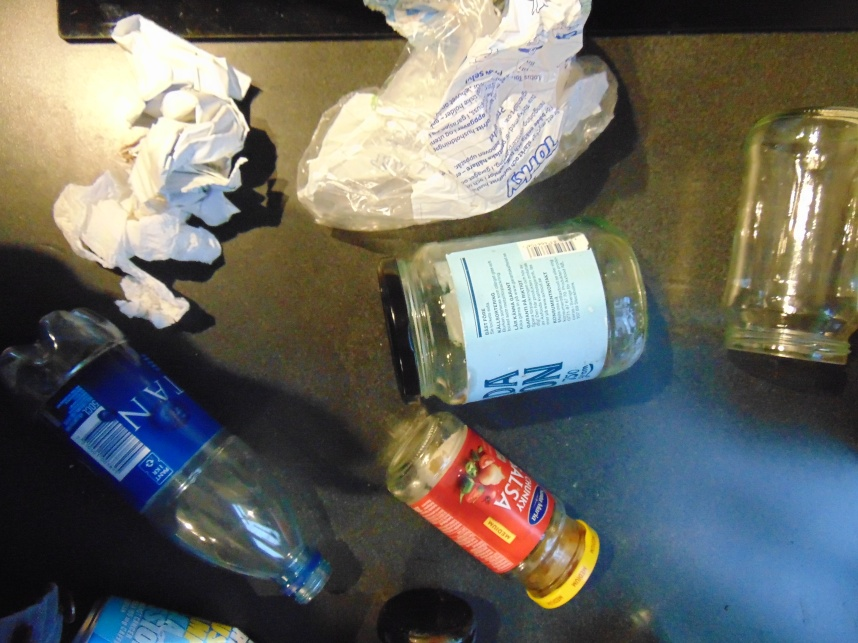glass_bottle: (379, 223, 648, 395), (384, 410, 594, 611), (721, 108, 857, 366)
metal_can: (71, 597, 265, 643)
plastic_bottle: (7, 305, 343, 617)
